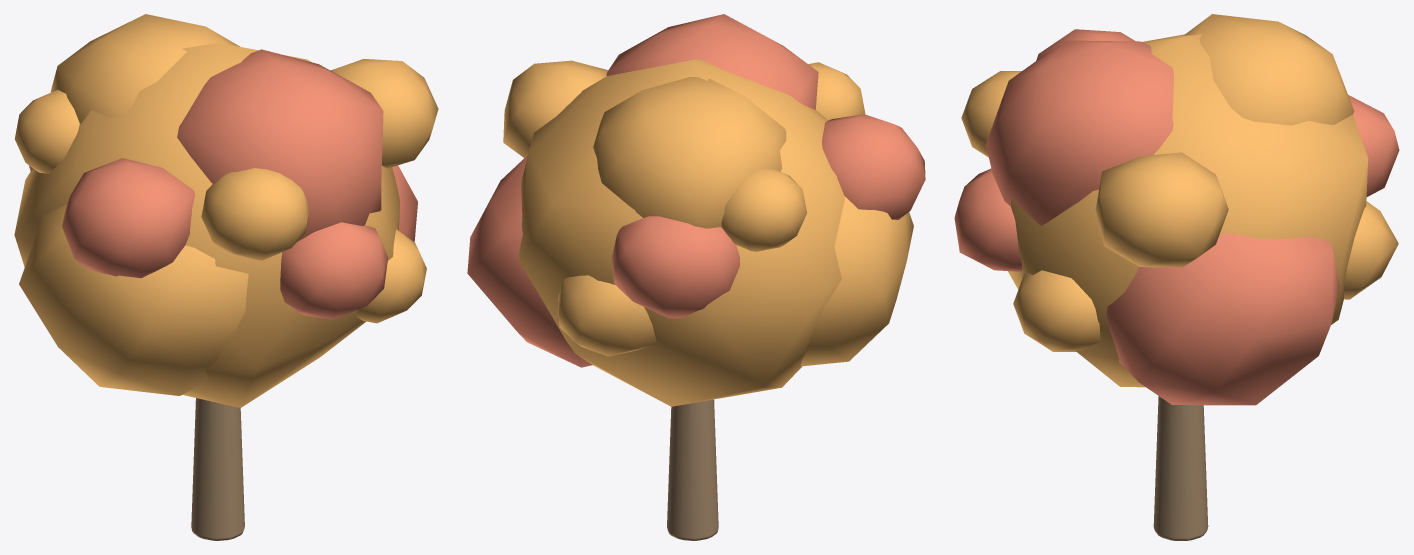
Rendered from tree_autumn.fbx.
The picture shows the model from 3 angles, left to right: view 1: azimuth 30°, elevation 25°; view 2: azimuth 150°, elevation 25°; view 3: azimuth 270°, elevation 25°; orthographic projection. The views are drawn at different scales.
Visible parts, largest first — view 1: Visual; view 2: Visual; view 3: Visual.
Part boxes in pixels (x1,y1,x2,y2): Visual: (14, 14, 438, 540); Visual: (467, 14, 925, 540); Visual: (954, 14, 1399, 540).
Size of what is drawn, in the model's own units: 424 by 502 by 407.
